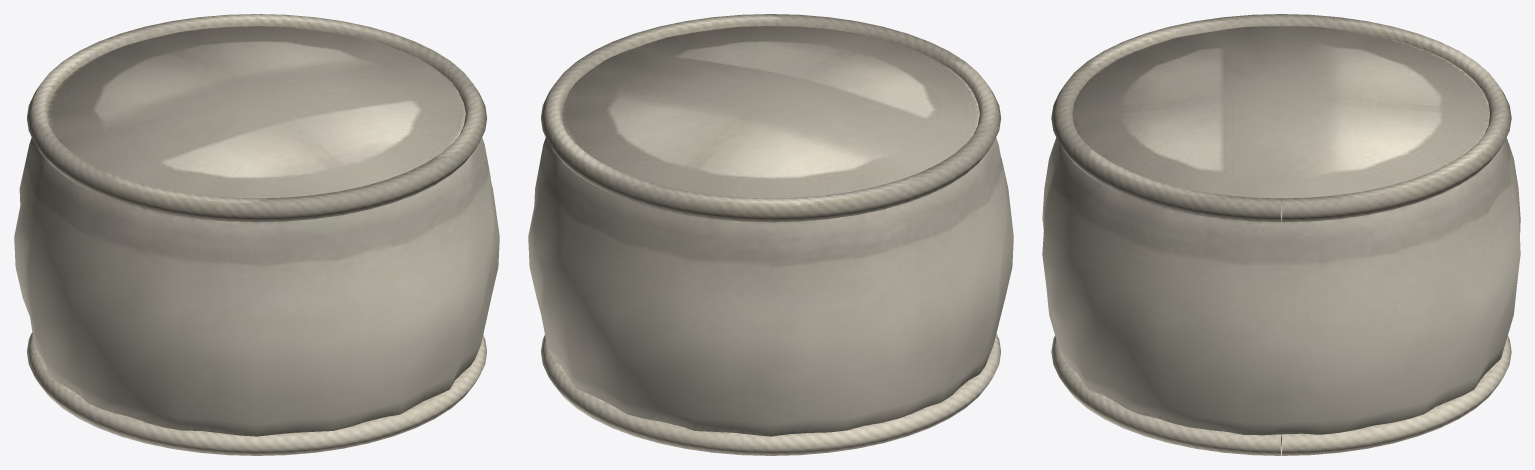
File: pouf_ivory.glb
3 views of the same model, side by side, from view 1: azimuth 30°, elevation 25°; view 2: azimuth 150°, elevation 25°; view 3: azimuth 270°, elevation 25° (orthographic).
Visible parts, largest first — view 1: prop_pouf_ivory_felt; view 2: prop_pouf_ivory_felt; view 3: prop_pouf_ivory_felt.
Part boxes in pixels (<box>): prop_pouf_ivory_felt: <box>14,14,499,455</box>; prop_pouf_ivory_felt: <box>528,14,1013,455</box>; prop_pouf_ivory_felt: <box>1042,14,1520,455</box>.
Bounding box in the file's own units: 1.28 × 0.7877 × 1.28.
1 material, 1 textured.
